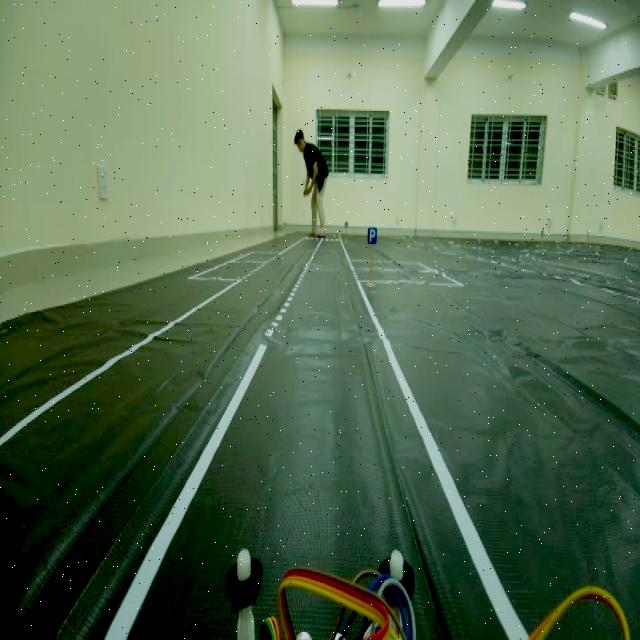parking: (367, 220, 382, 252)
